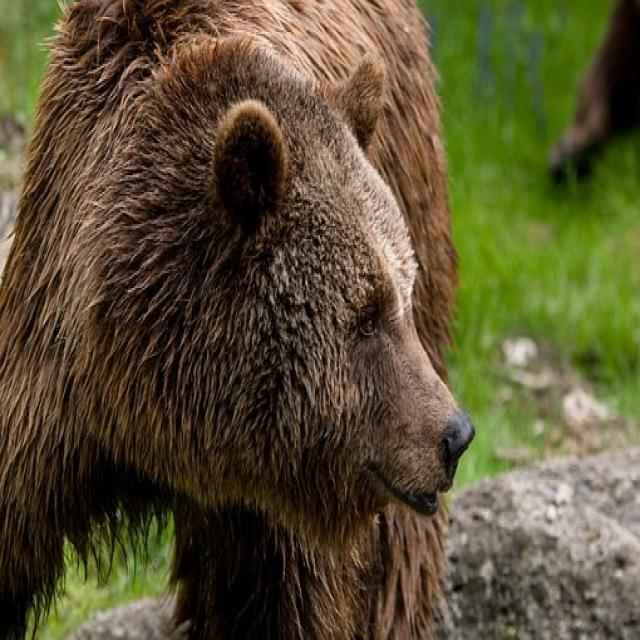Bear: (0, 0, 476, 640), (550, 0, 640, 171)
